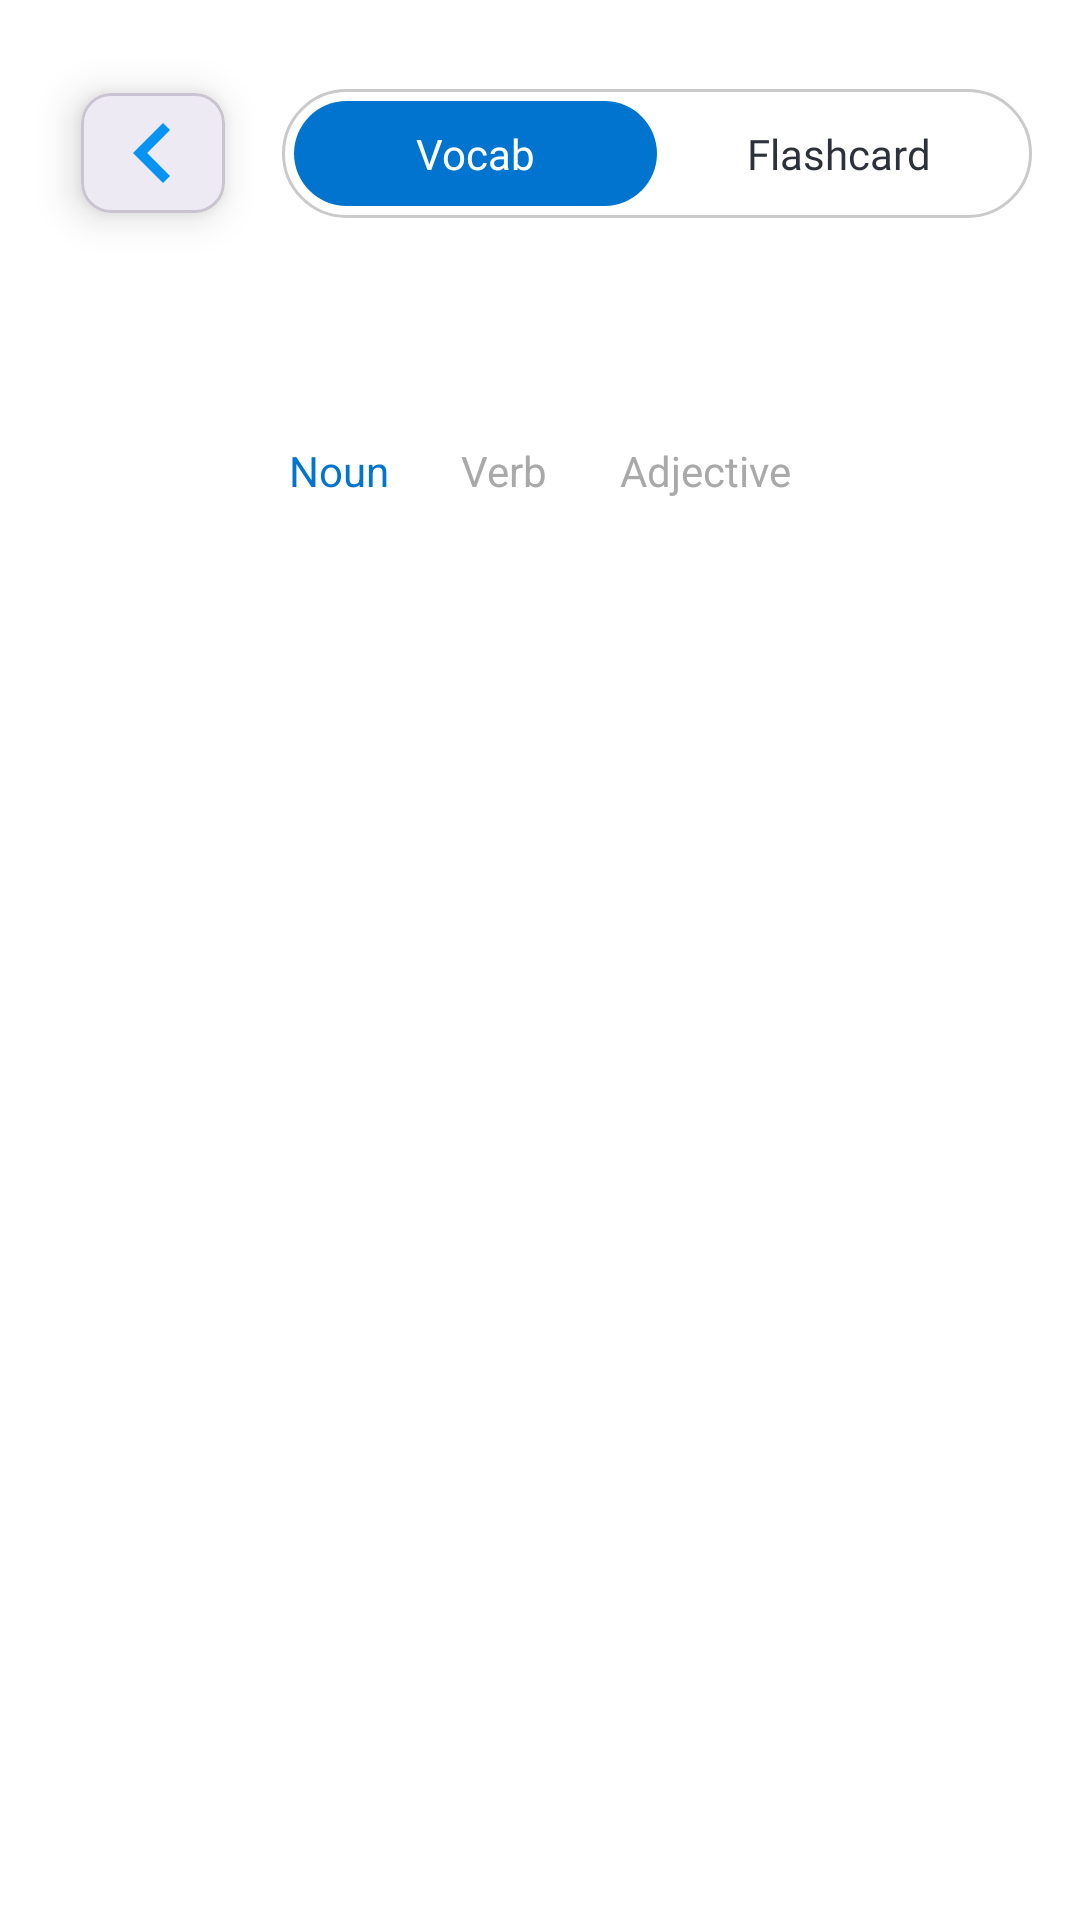

Named icons in this screenshot (1080px x 1920px) and their centers, (x=x, y=y):
Back: (x=153, y=153)
